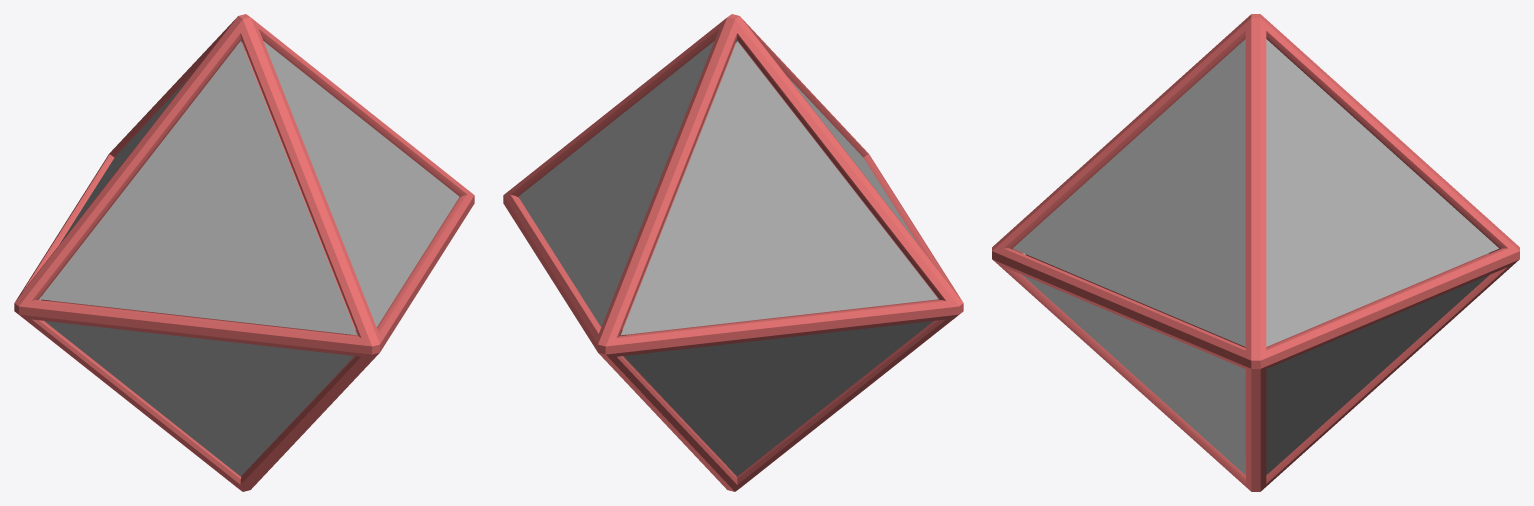
File: dice.fbx
3 views of the same model, side by side, from view 1: azimuth 30°, elevation 25°; view 2: azimuth 150°, elevation 25°; view 3: azimuth 270°, elevation 25° (orthographic).
Visible parts, largest first — view 1: pasted__polySurface7, rim, pasted__polySurface3, pasted__polySurface8, pasted__polySurface6, inner_die; view 2: pasted__polySurface6, rim, pasted__polySurface2, pasted__polySurface9, pasted__polySurface7, inner_die; view 3: rim, pasted__polySurface8, pasted__polySurface9, pasted__polySurface4, pasted__polySurface5, inner_die.
Boxes of the visible parts, x1,y1,x2,y2 form: pasted__polySurface7: (39, 41, 356, 335); rim: (14, 14, 474, 491); pasted__polySurface3: (44, 321, 353, 476); pasted__polySurface8: (263, 41, 459, 326); pasted__polySurface6: (59, 78, 188, 244); inner_die: (41, 42, 358, 448); pasted__polySurface6: (621, 41, 938, 335); rim: (503, 14, 963, 491); pasted__polySurface2: (624, 321, 933, 476); pasted__polySurface9: (518, 41, 714, 326); pasted__polySurface7: (789, 78, 918, 244); inner_die: (619, 42, 936, 448); rim: (992, 14, 1519, 491); pasted__polySurface8: (1013, 39, 1245, 346); pasted__polySurface9: (1266, 39, 1498, 346); pasted__polySurface4: (1022, 275, 1245, 475); pasted__polySurface5: (1266, 275, 1489, 474); inner_die: (1025, 254, 1486, 347).
Size of the model in its own units: 5.87 by 5.81 by 5.87.
